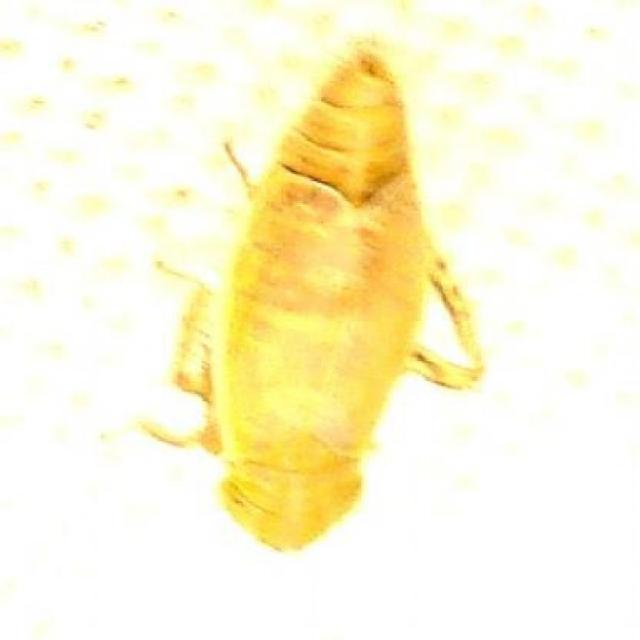green-leafhopper: (168, 66, 494, 542)
